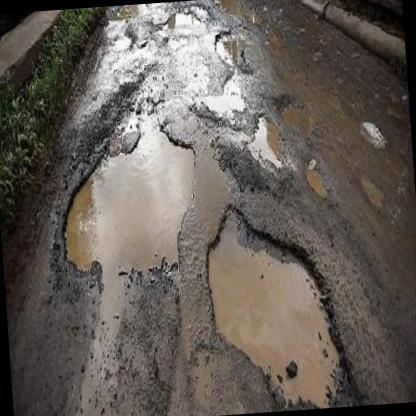pothole: (200, 193, 366, 415), (54, 112, 204, 283), (249, 109, 292, 173), (276, 92, 314, 136), (212, 25, 244, 74), (303, 157, 331, 202), (161, 7, 202, 31), (110, 26, 134, 54)
